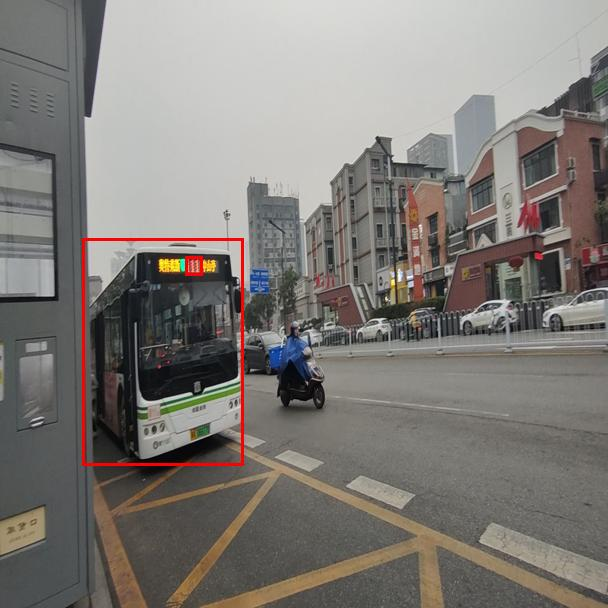bus: (82, 238, 243, 465)
screen: (185, 256, 202, 275)
